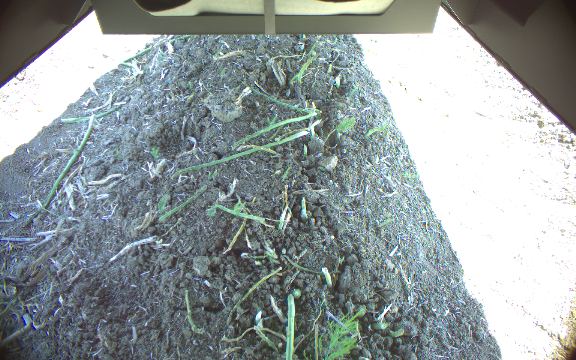aspa: (284, 292, 296, 360), (295, 55, 317, 86), (299, 195, 307, 221)
